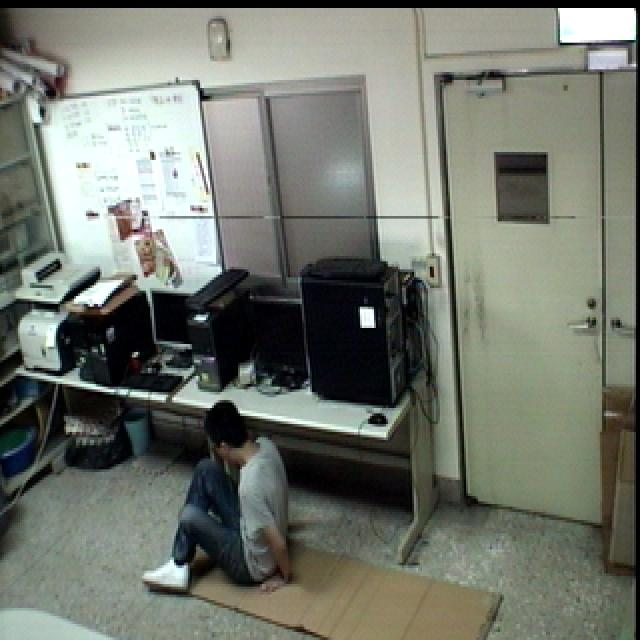sit: (138, 395, 300, 607)
